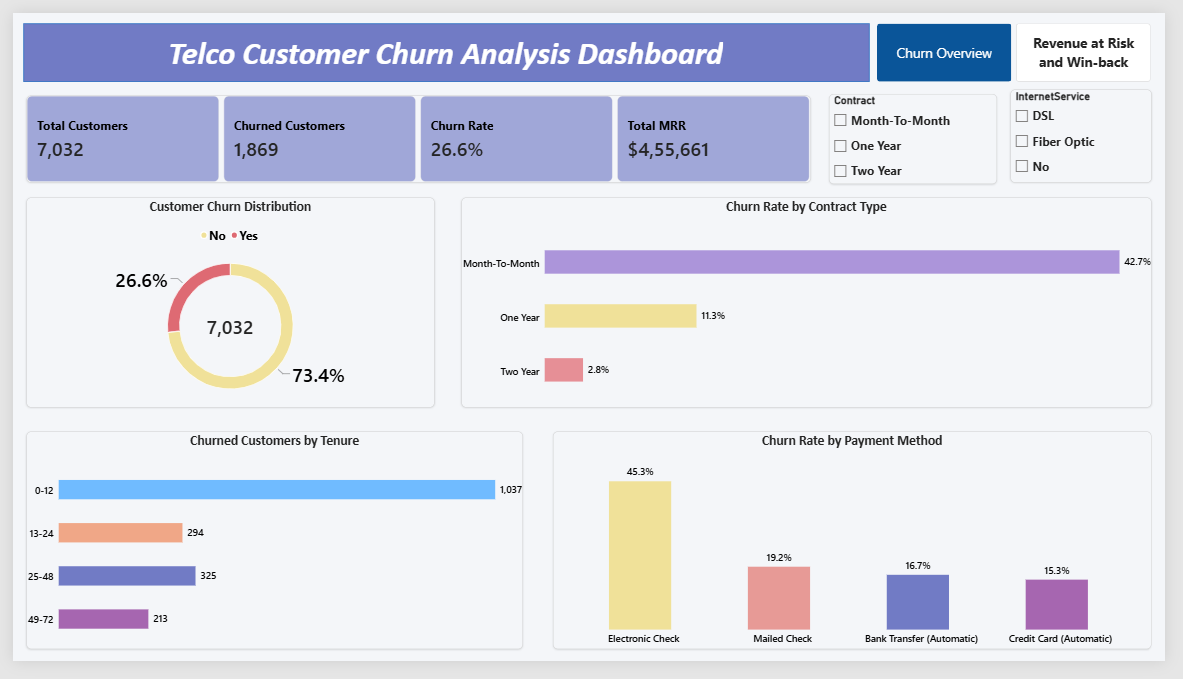

The dashboard page shown, as its layout file describes it:
{"tool":"powerbi","page":{"name":"Churn Overview","canvas":[1920,1080],"ordinal":0},"visuals":[{"type":"cardVisual","fields":{"Data":["Dax Table.Total Customers","Dax Table.Churned Customers","Dax Table.Churn Rate","Dax Table.Total MRR"]},"box":[22.5,137.5,1307.5,145],"z":0},{"type":"donutChart","title":"Customer Churn Distribution","fields":{"Category":["Telco_Customer_Churn.Churn"],"Y":["Dax Table.Total Customers"]},"box":[22.5,307.5,680,350],"z":1000},{"type":"clusteredColumnChart","title":"Churn Rate by Payment Method","fields":{"Category":["Telco_Customer_Churn.PaymentMethod"],"Y":["Dax Table.Churn Rate"]},"box":[900,697.5,997.5,362.5],"z":2000},{"type":"clusteredBarChart","title":"Churn Rate by Contract Type","fields":{"Category":["Telco_Customer_Churn.Contract"],"Y":["Dax Table.Churn Rate"]},"box":[747.5,307.5,1150,350],"z":3000},{"type":"clusteredBarChart","title":"Churned Customers by Tenure","fields":{"Category":["Telco_Customer_Churn.Tenure Band"],"Y":["Dax Table.Churned Customers"]},"box":[22.5,697.5,827.5,362.5],"z":4000},{"type":"slicer","fields":{"Values":["Telco_Customer_Churn.Contract"]},"box":[1360,135,280,150],"z":5000},{"type":"slicer","fields":{"Values":["Telco_Customer_Churn.InternetService"]},"box":[1662.5,132.5,235,150],"z":6000},{"type":"shape","box":[18,17.5,1410,97.5],"z":7000}]}

Visuals, with their boxes in screenshot pixels (x1, y1, x2, y2), scaled from the page's 1920x1080 canvas onto the 1183x679 screenshot:
cardVisual - Dax Table.Total Customers x Dax Table.Churned Customers: <box>14,86,819,178</box>
"Customer Churn Distribution" donutChart: <box>14,193,433,413</box>
"Churn Rate by Payment Method" clusteredColumnChart: <box>555,439,1169,666</box>
"Churn Rate by Contract Type" clusteredBarChart: <box>461,193,1169,413</box>
"Churned Customers by Tenure" clusteredBarChart: <box>14,439,524,666</box>
slicer - Telco_Customer_Churn.Contract: <box>838,85,1010,179</box>
slicer - Telco_Customer_Churn.InternetService: <box>1024,83,1169,178</box>
shape: <box>11,11,880,72</box>
